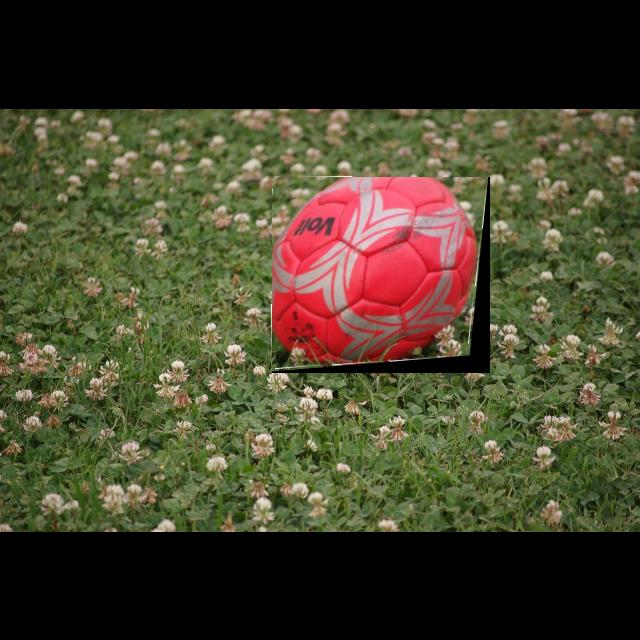Football: (272, 177, 490, 373)
